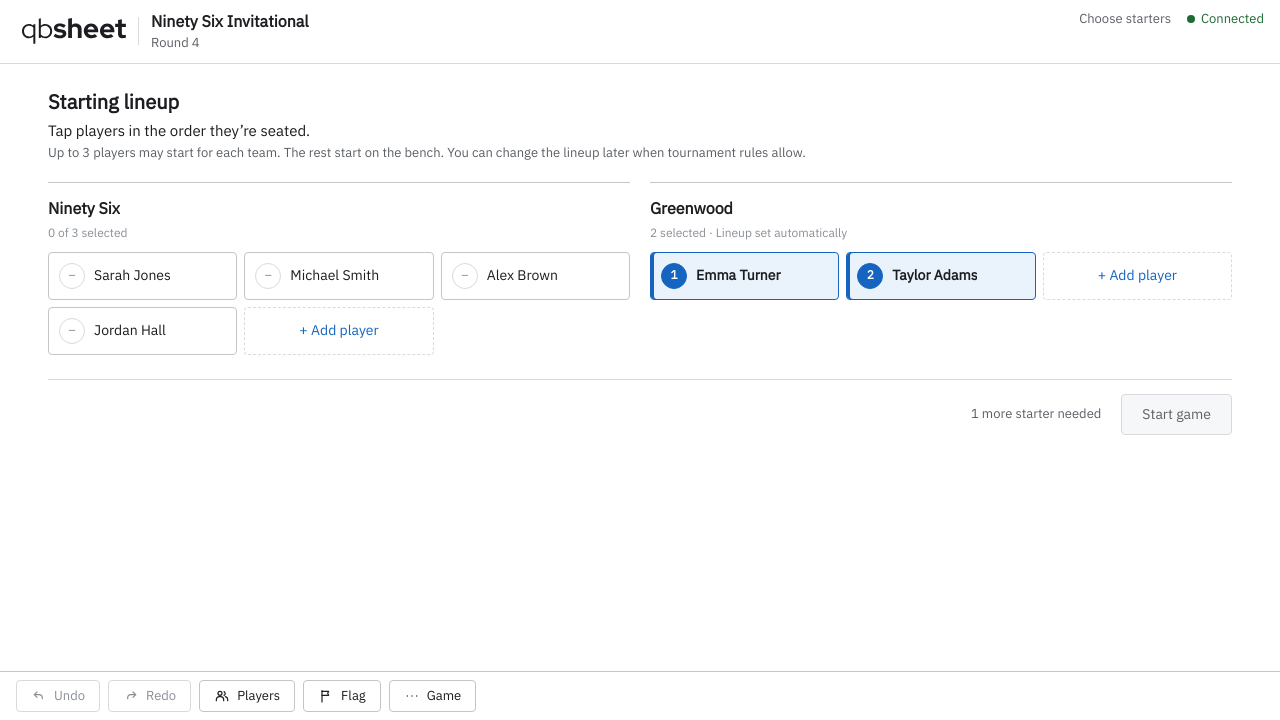
Test: rearranging the rows › the ends of the list cannot be moved off it
The width and height of the screenshot is (1280, 720).
Click the button "– Sarah Jones": (143, 276) x1=48 y1=252 x2=237 y2=300
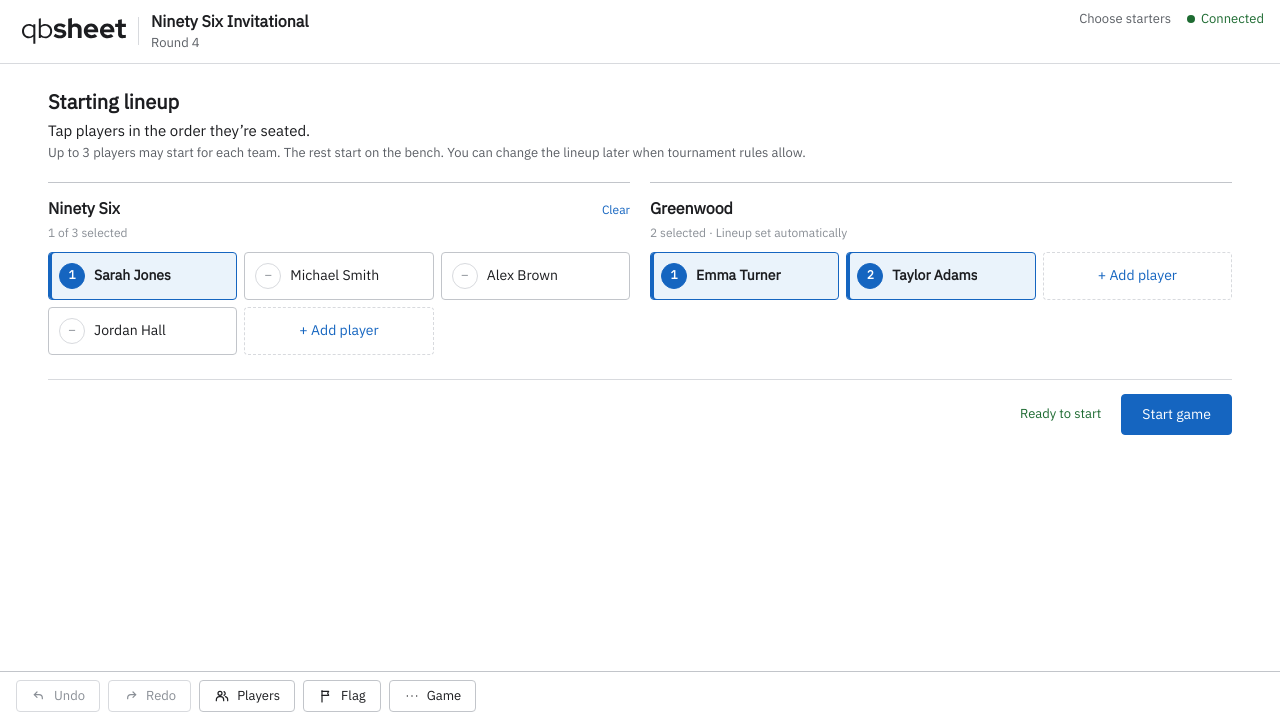
Click the button "– Michael Smith": (339, 276) x1=244 y1=252 x2=434 y2=300
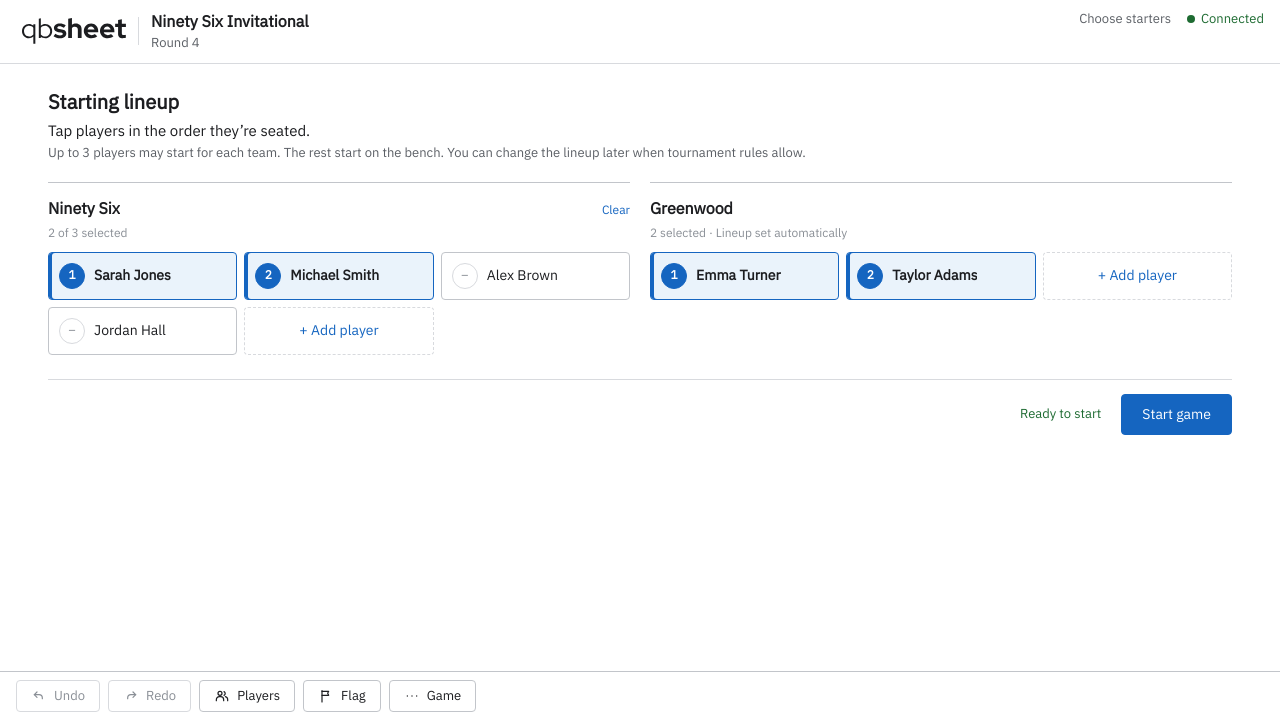
Click the button "– Alex Brown": (535, 276) x1=441 y1=252 x2=630 y2=300
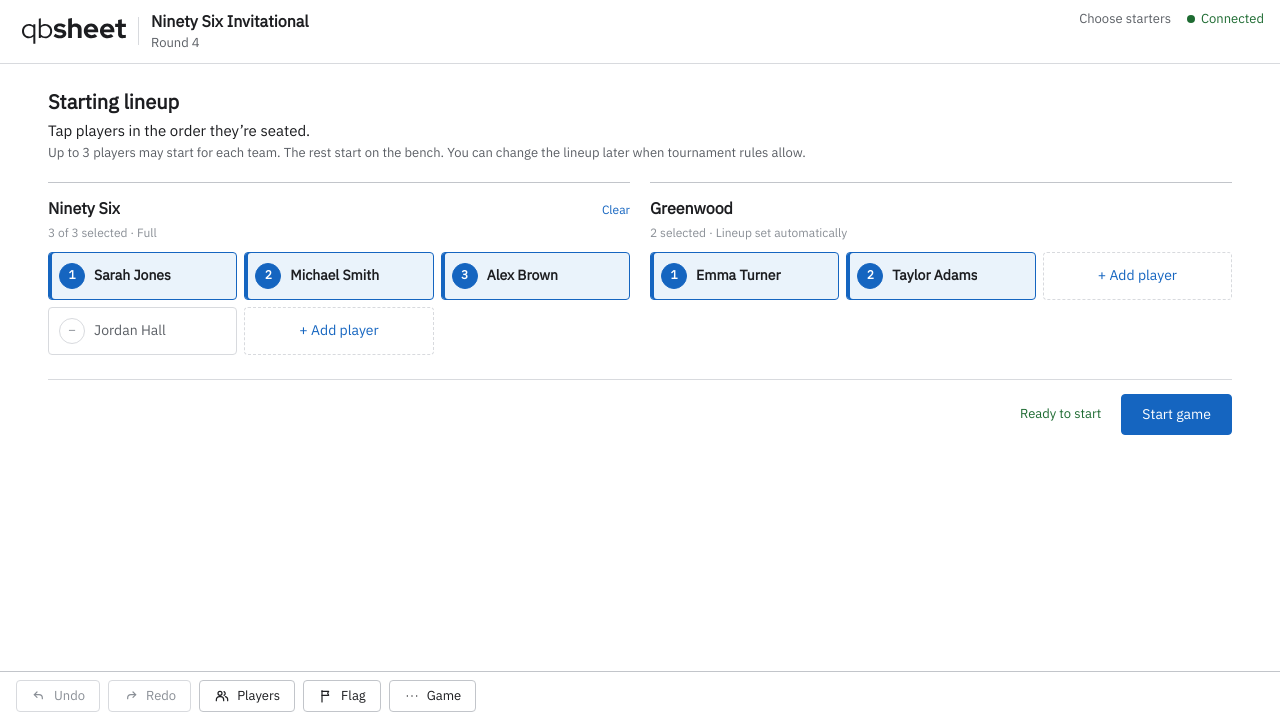
Click the button "Start game": (1177, 414) x1=1121 y1=394 x2=1232 y2=435
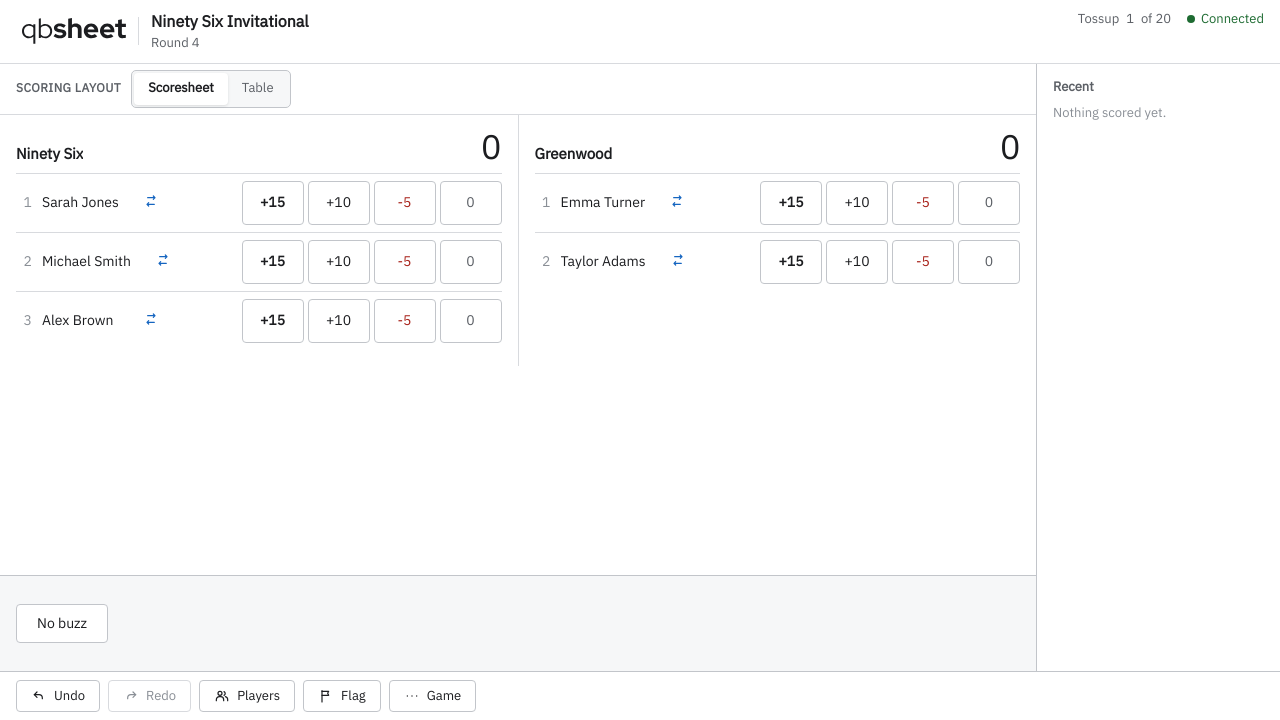
Click the button "Players": (247, 696) x1=199 y1=680 x2=295 y2=712
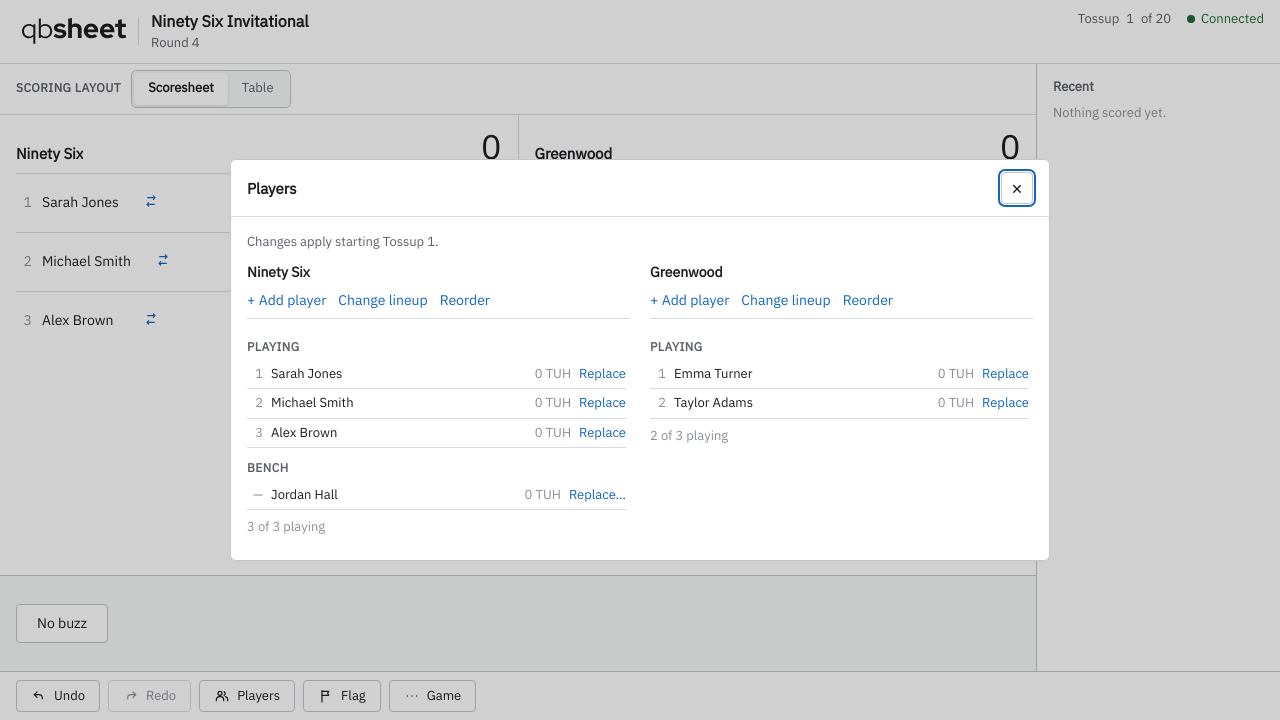
Click the 1st button "Reorder": (465, 301) x1=440 y1=291 x2=490 y2=310
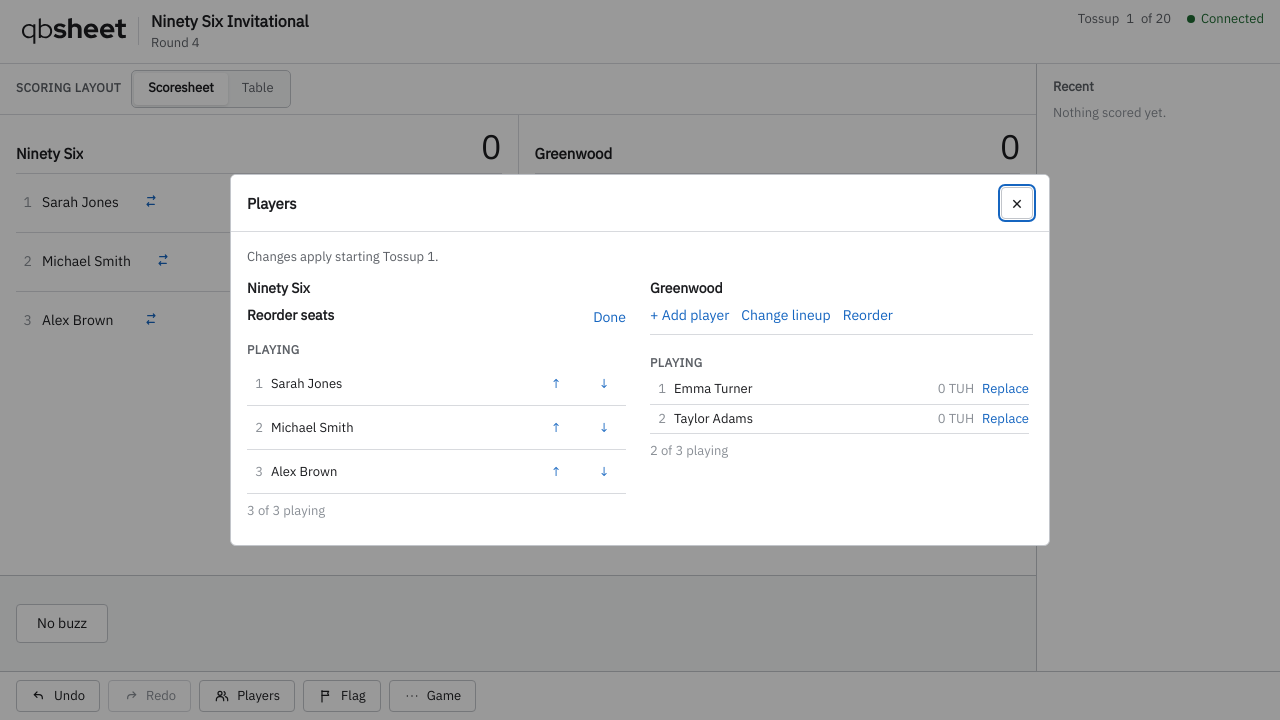
Expected: the button named "Move Alex Brown down" is disabled, x1=582 y1=450 x2=626 y2=494
Expected: the button named "Move Sarah Jones up" is disabled, x1=534 y1=362 x2=578 y2=406
